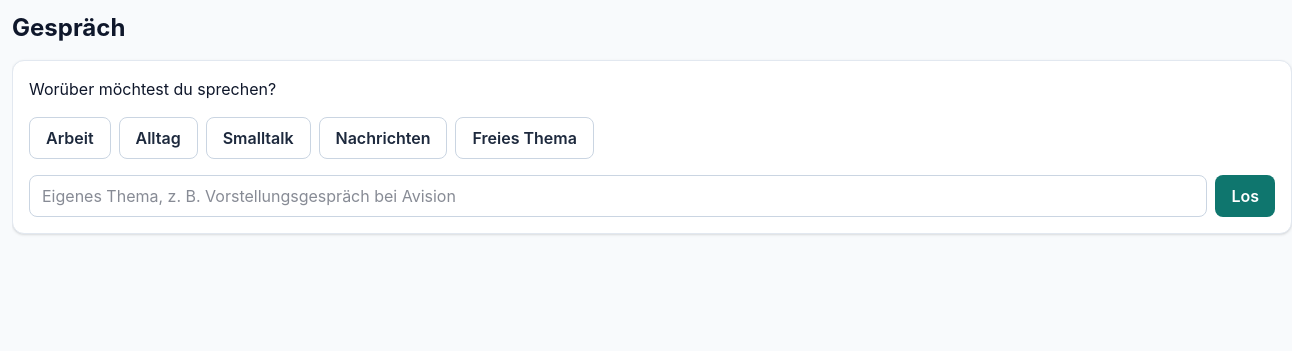
Gespräch › disables switching topic while recording
Click the button "Arbeit".
click(70, 138)  # box [29,117,110,159]
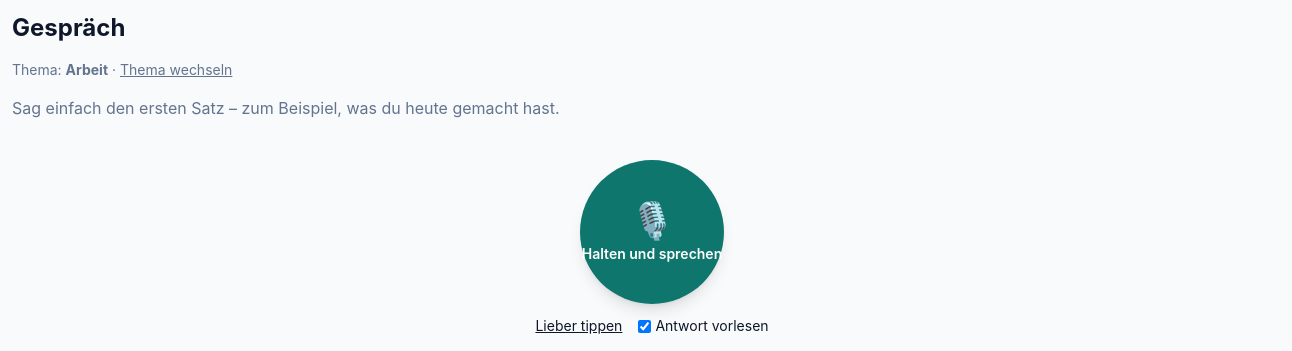
Expected: the button "🎙️ Halten und sprechen" is shown
Press the mouse on the button "🎙️ Halten und sprechen" at (652, 232), box [580,160,724,304]
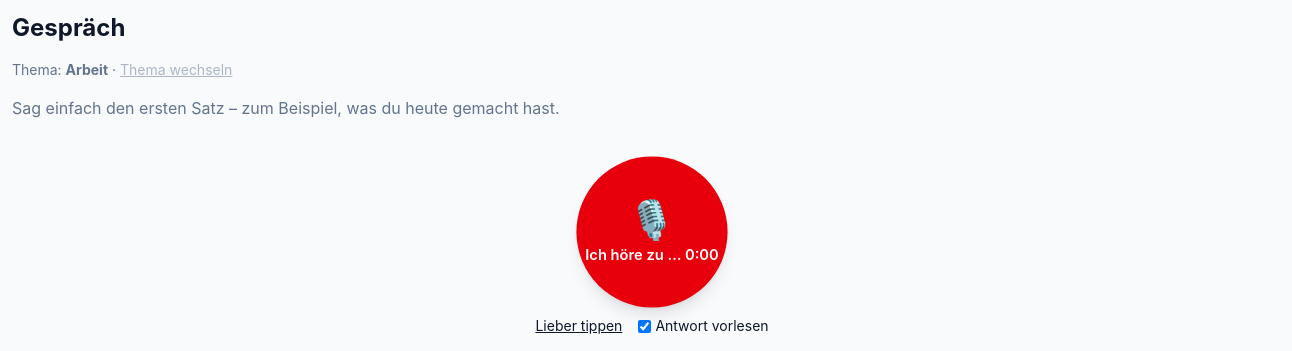
Expected: the text "Ich höre zu … 0:00" is shown, [585,245,719,266]
Expected: the button "Thema wechseln" is disabled, [120,60,232,80]
